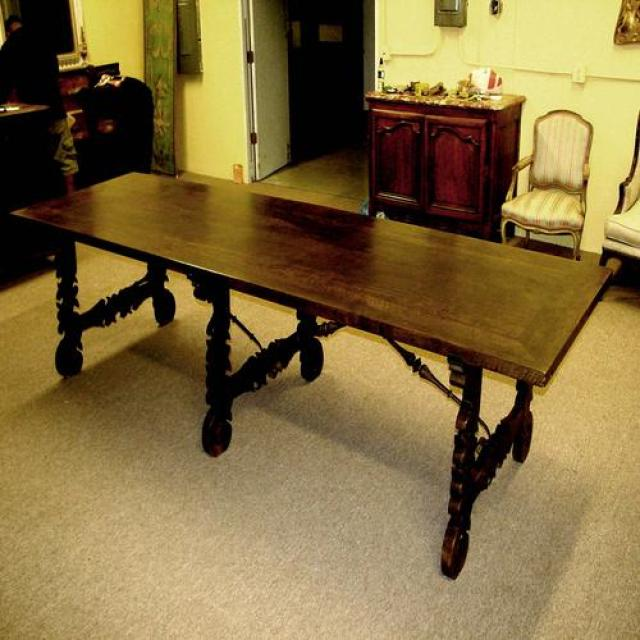table: (18, 173, 616, 582)
